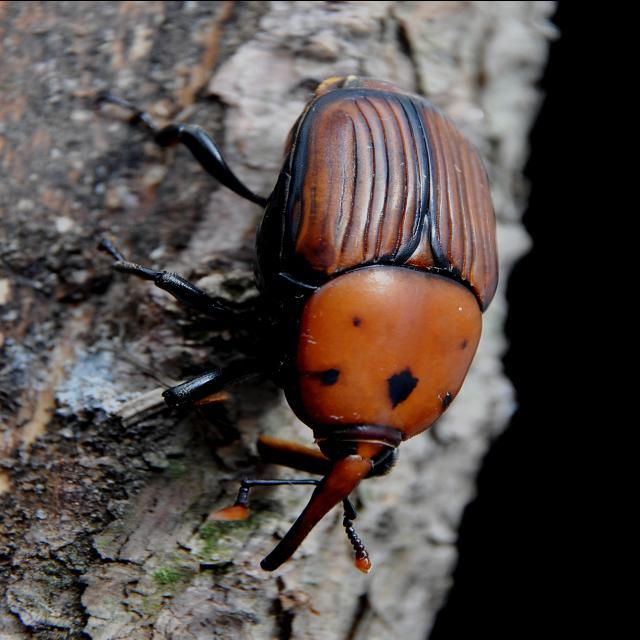Red-palm-weevil: (214, 77, 500, 572)
